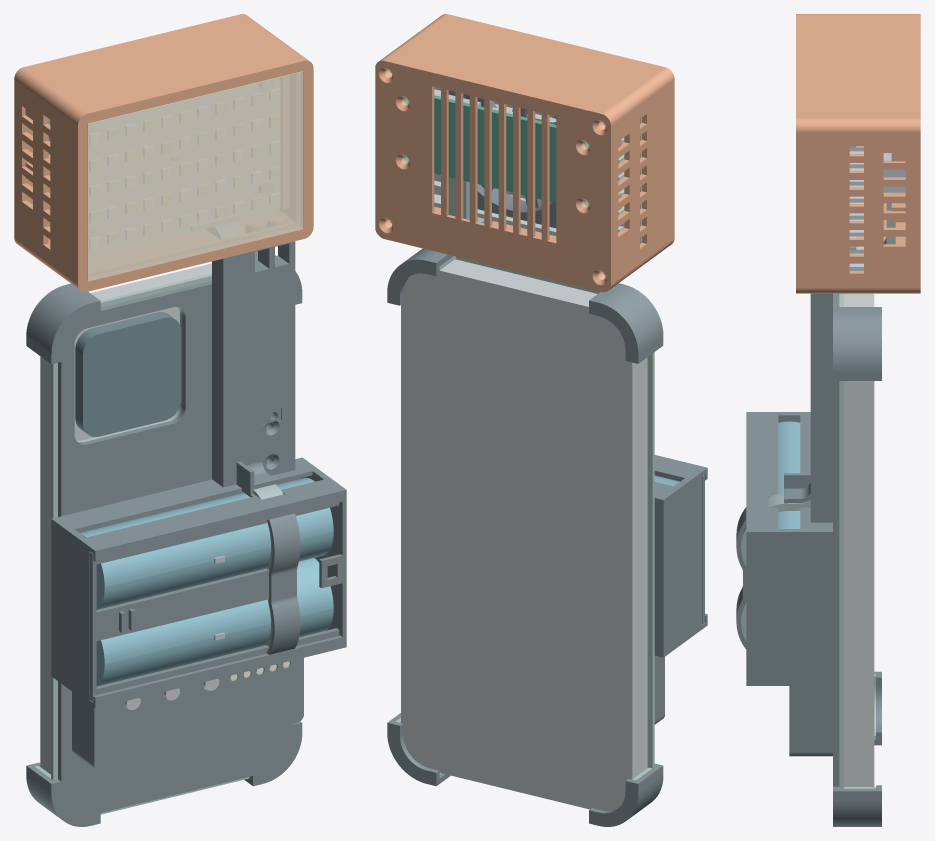
The model's file is filllight.glb.
3 views of the same model, side by side, from view 1: azimuth 30°, elevation 25°; view 2: azimuth 150°, elevation 25°; view 3: azimuth 270°, elevation 25° (orthographic). The views are drawn at different scales.
Visible parts, largest first — view 1: frame, diffuser, battery_tray, head_shell, neck, board_hood, camera_dummy, cell_1, head_bezel, cell_2, battery_lid, phone (+3 smaller); view 2: phone, head_grille, head_shell, battery_tray, frame, driver_board, liner, head_bezel, fan, heatsink, board_hood, harness_bundle; view 3: head_shell, battery_tray, phone, frame, neck, head_bezel, board_hood, liner, cell_1, ridge_cover, head_grille, harness_bundle (+2 smaller).
Part boxes in pixels (x1,y1,x2,y2): frame: (26,251,302,826); diffuser: (87,71,303,281); battery_tray: (51,457,346,708); head_shell: (16,15,303,285); neck: (212,241,295,487); board_hood: (72,658,303,770); camera_dummy: (75,312,180,436); cell_1: (79,477,333,609); head_bezel: (72,56,313,291); cell_2: (96,558,333,686); battery_lid: (90,502,339,701); phone: (40,263,211,774); phone: (401,259,647,810); head_grille: (375,59,612,292); head_shell: (381,18,668,288); battery_tray: (654,455,707,657); frame: (387,248,663,826); driver_board: (403,95,588,206); liner: (396,256,654,780); head_bezel: (437,14,674,247); fan: (448,90,556,228); heatsink: (434,87,624,235); board_hood: (654,655,664,724); harness_bundle: (448,177,493,223); head_shell: (807,14,915,293); battery_tray: (746,412,832,685); phone: (844,293,874,786); frame: (833,293,881,826); neck: (810,293,832,522); head_bezel: (796,14,807,293); board_hood: (789,686,832,756); liner: (839,293,875,788); cell_1: (778,421,800,528); ridge_cover: (736,473,810,649); head_grille: (916,14,920,293); harness_bundle: (741,192,895,640).
Bounding box in the file's own units: 0.0768 × 0.2136 × 0.0498.
